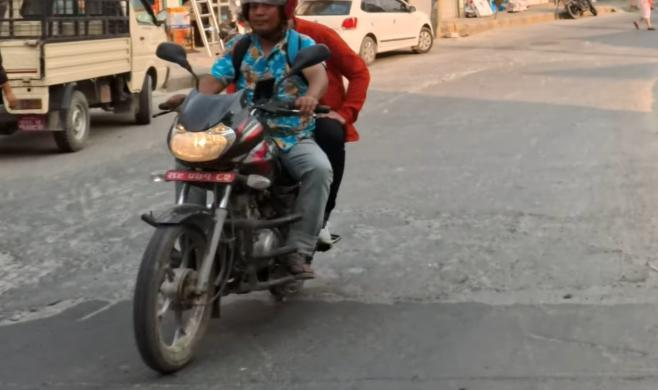bike: (112, 72, 337, 371)
